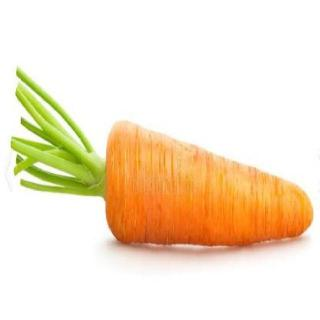carrot: (97, 93, 313, 285)
